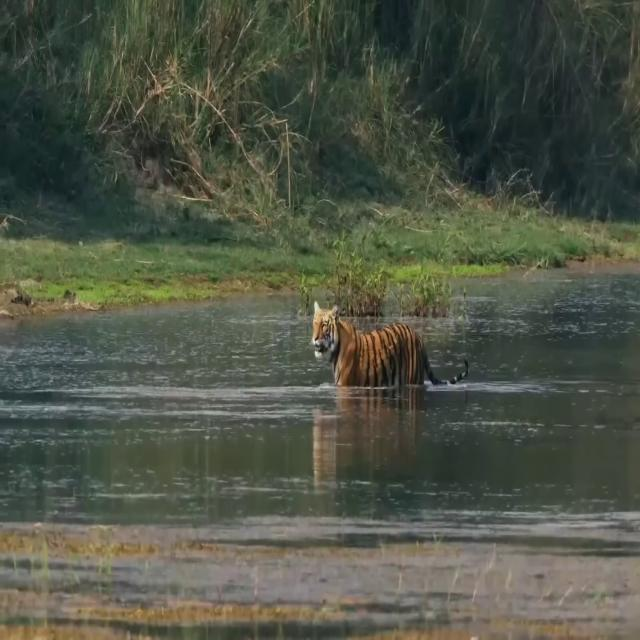tiger: (311, 300, 470, 388)
